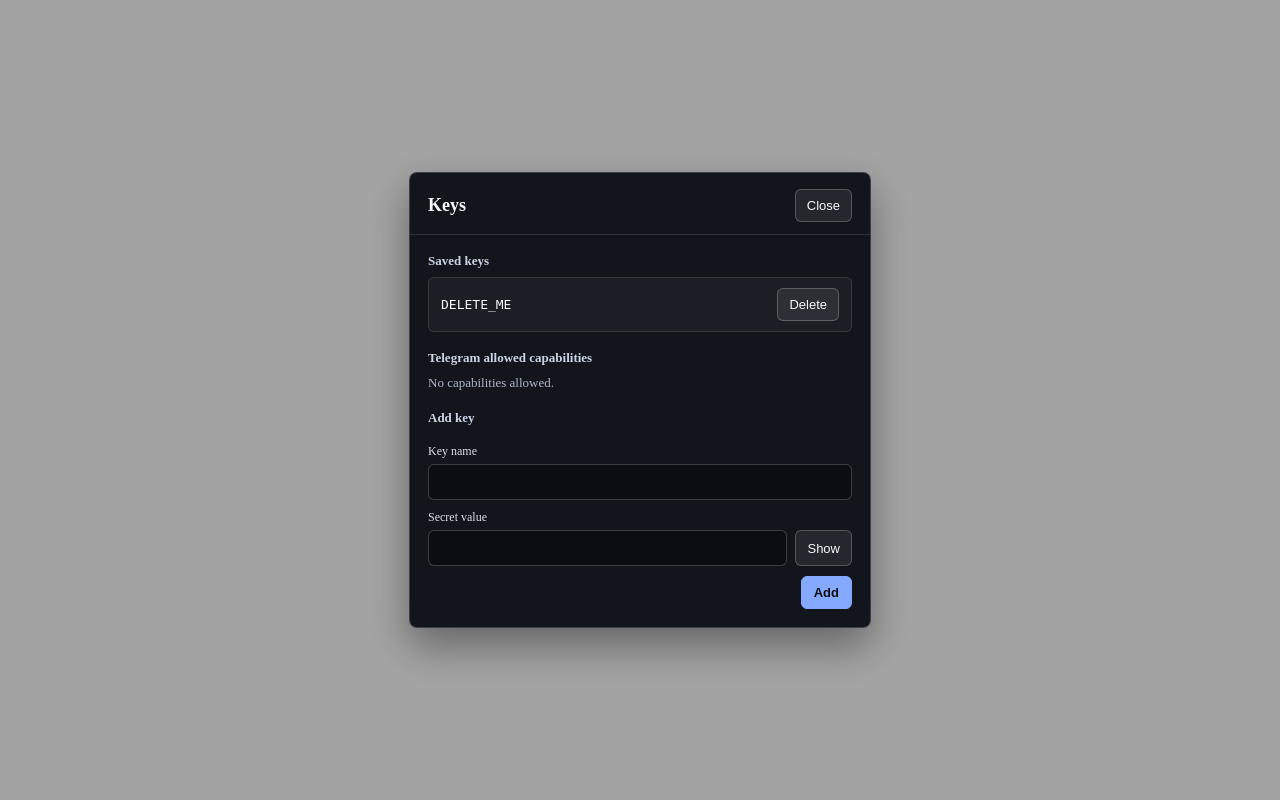
Scenario: KeysPanel › deletes a secret and refreshes the names list
The width and height of the screenshot is (1280, 800).
Click the button "Delete": coordinates (808, 304) [777, 288, 839, 321]
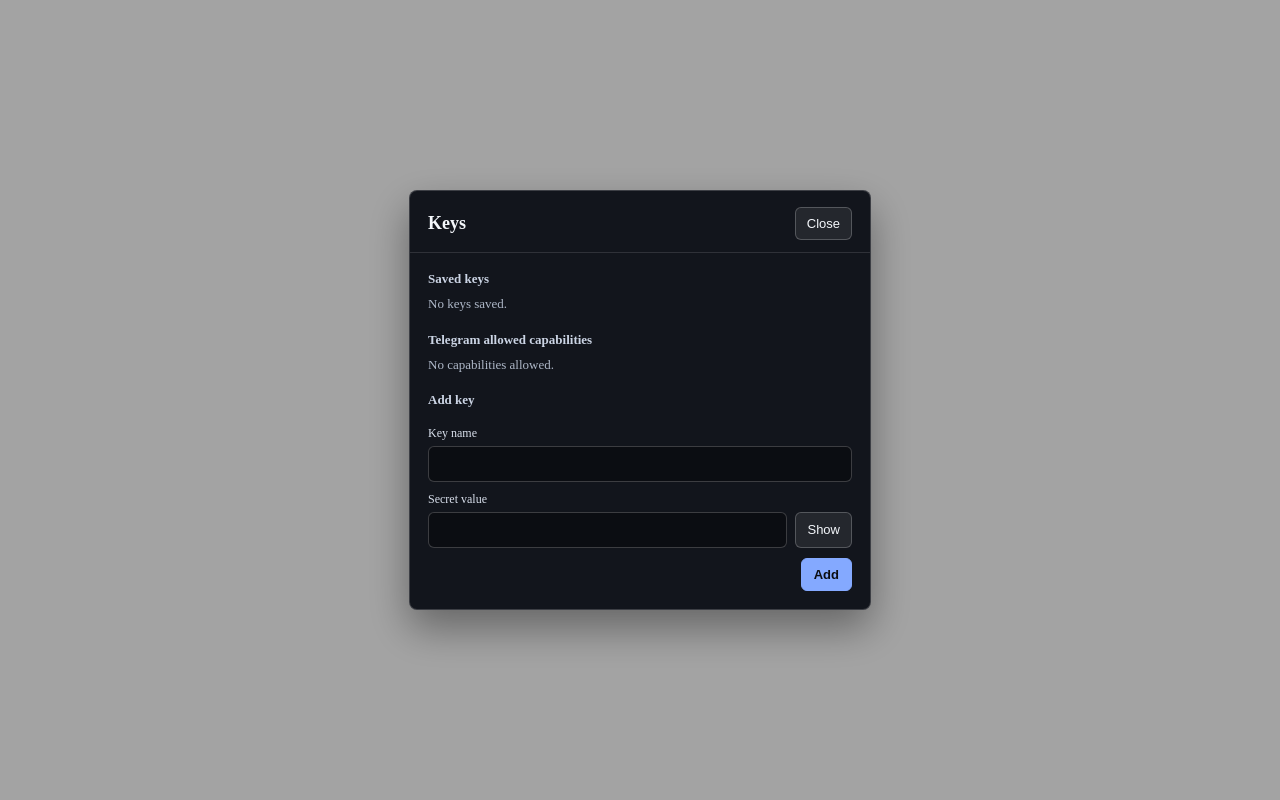
Now the text "DELETE_ME" is gone
